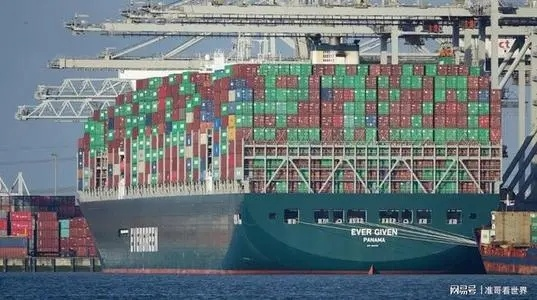Cargoship: (62, 42, 513, 272)
